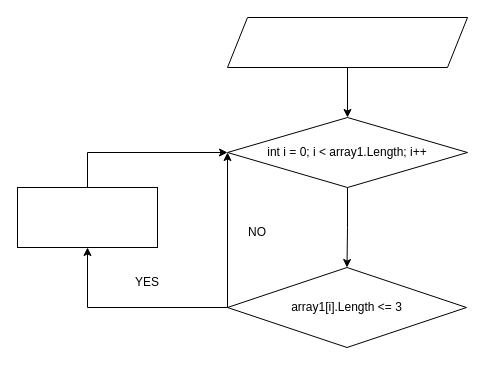
The diagram is 485 pixels wide and 365 high, and some of its shapes have lost their labels. The centre of each missing label's shape, as x and y in pixels:
"array2[count] = array1[i]; count++;" goes at point 87,217.
"string[] array1, string[] array2 int count = 0" goes at point 347,42.
